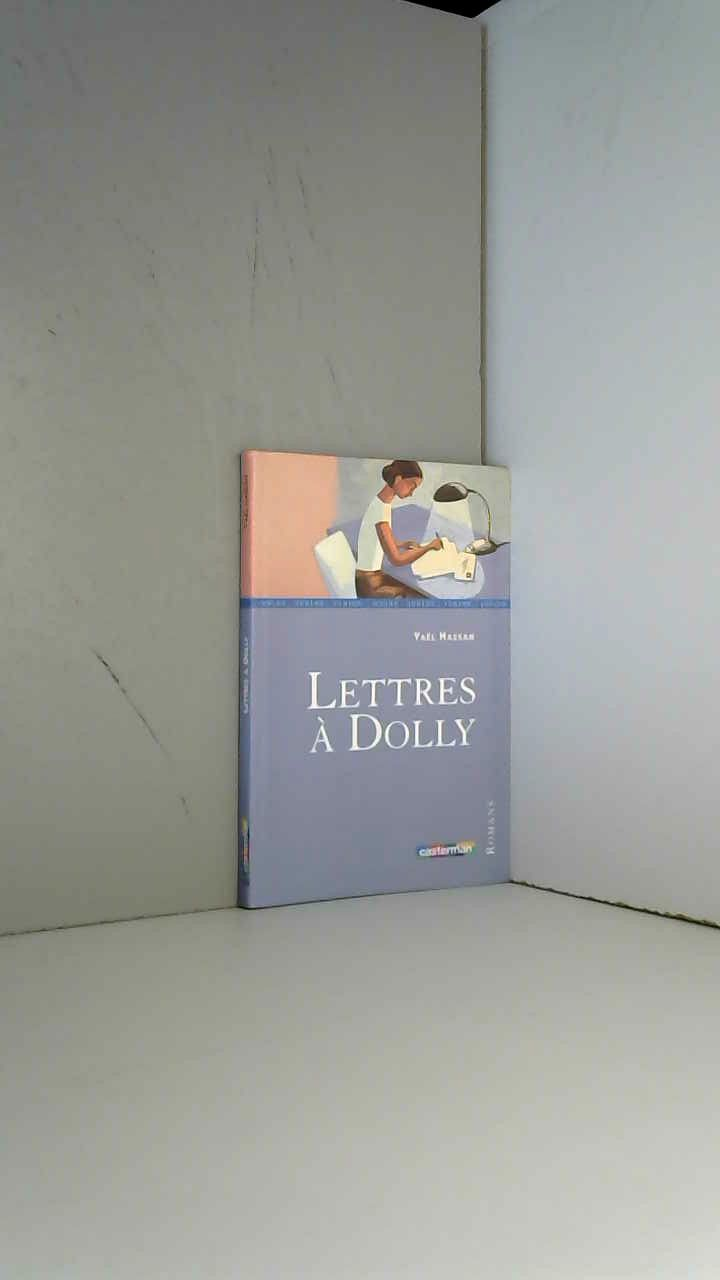book: (202, 413, 547, 941)
